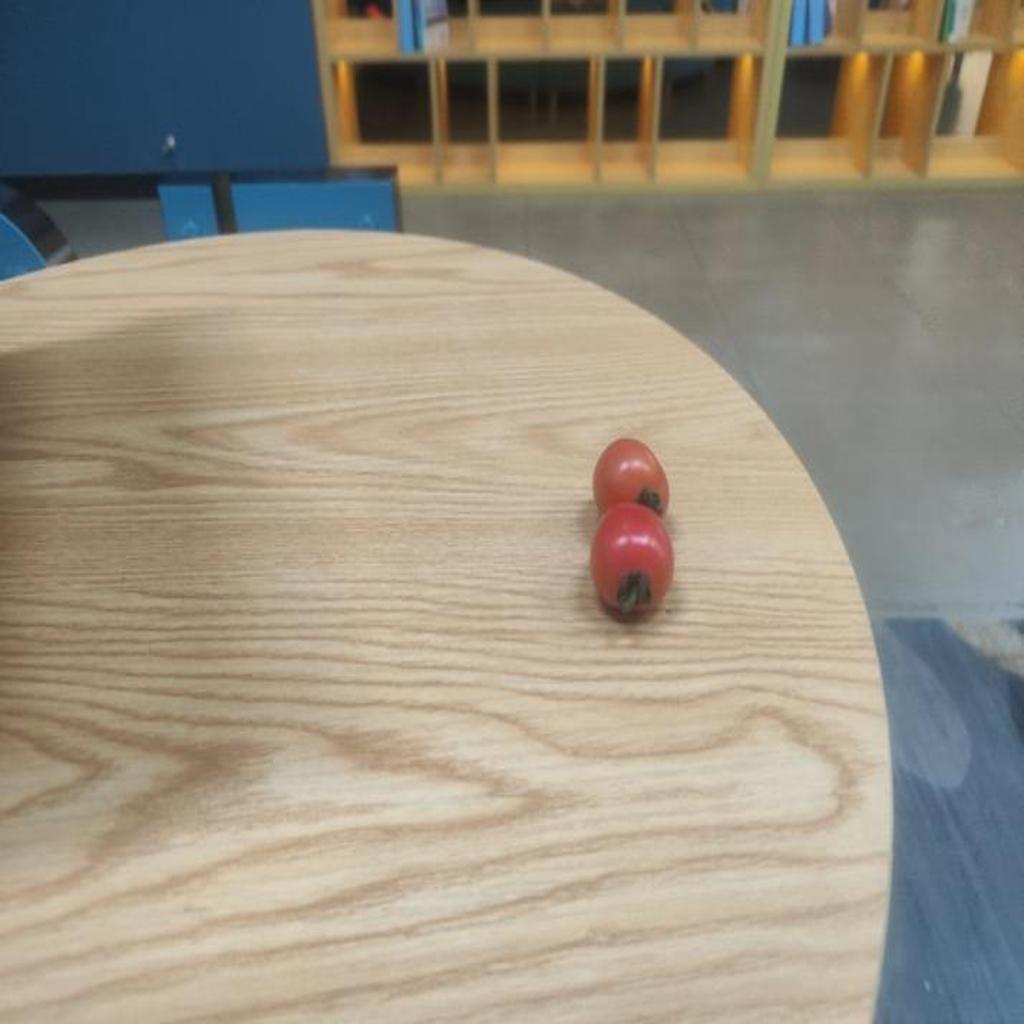tomato: (569, 505, 678, 622), (583, 432, 670, 519)
